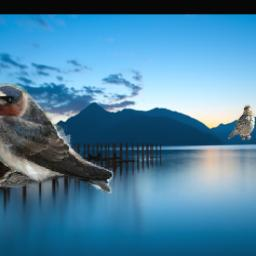Sparrow: (229, 105, 256, 141)
Swallow: (0, 83, 114, 195)
